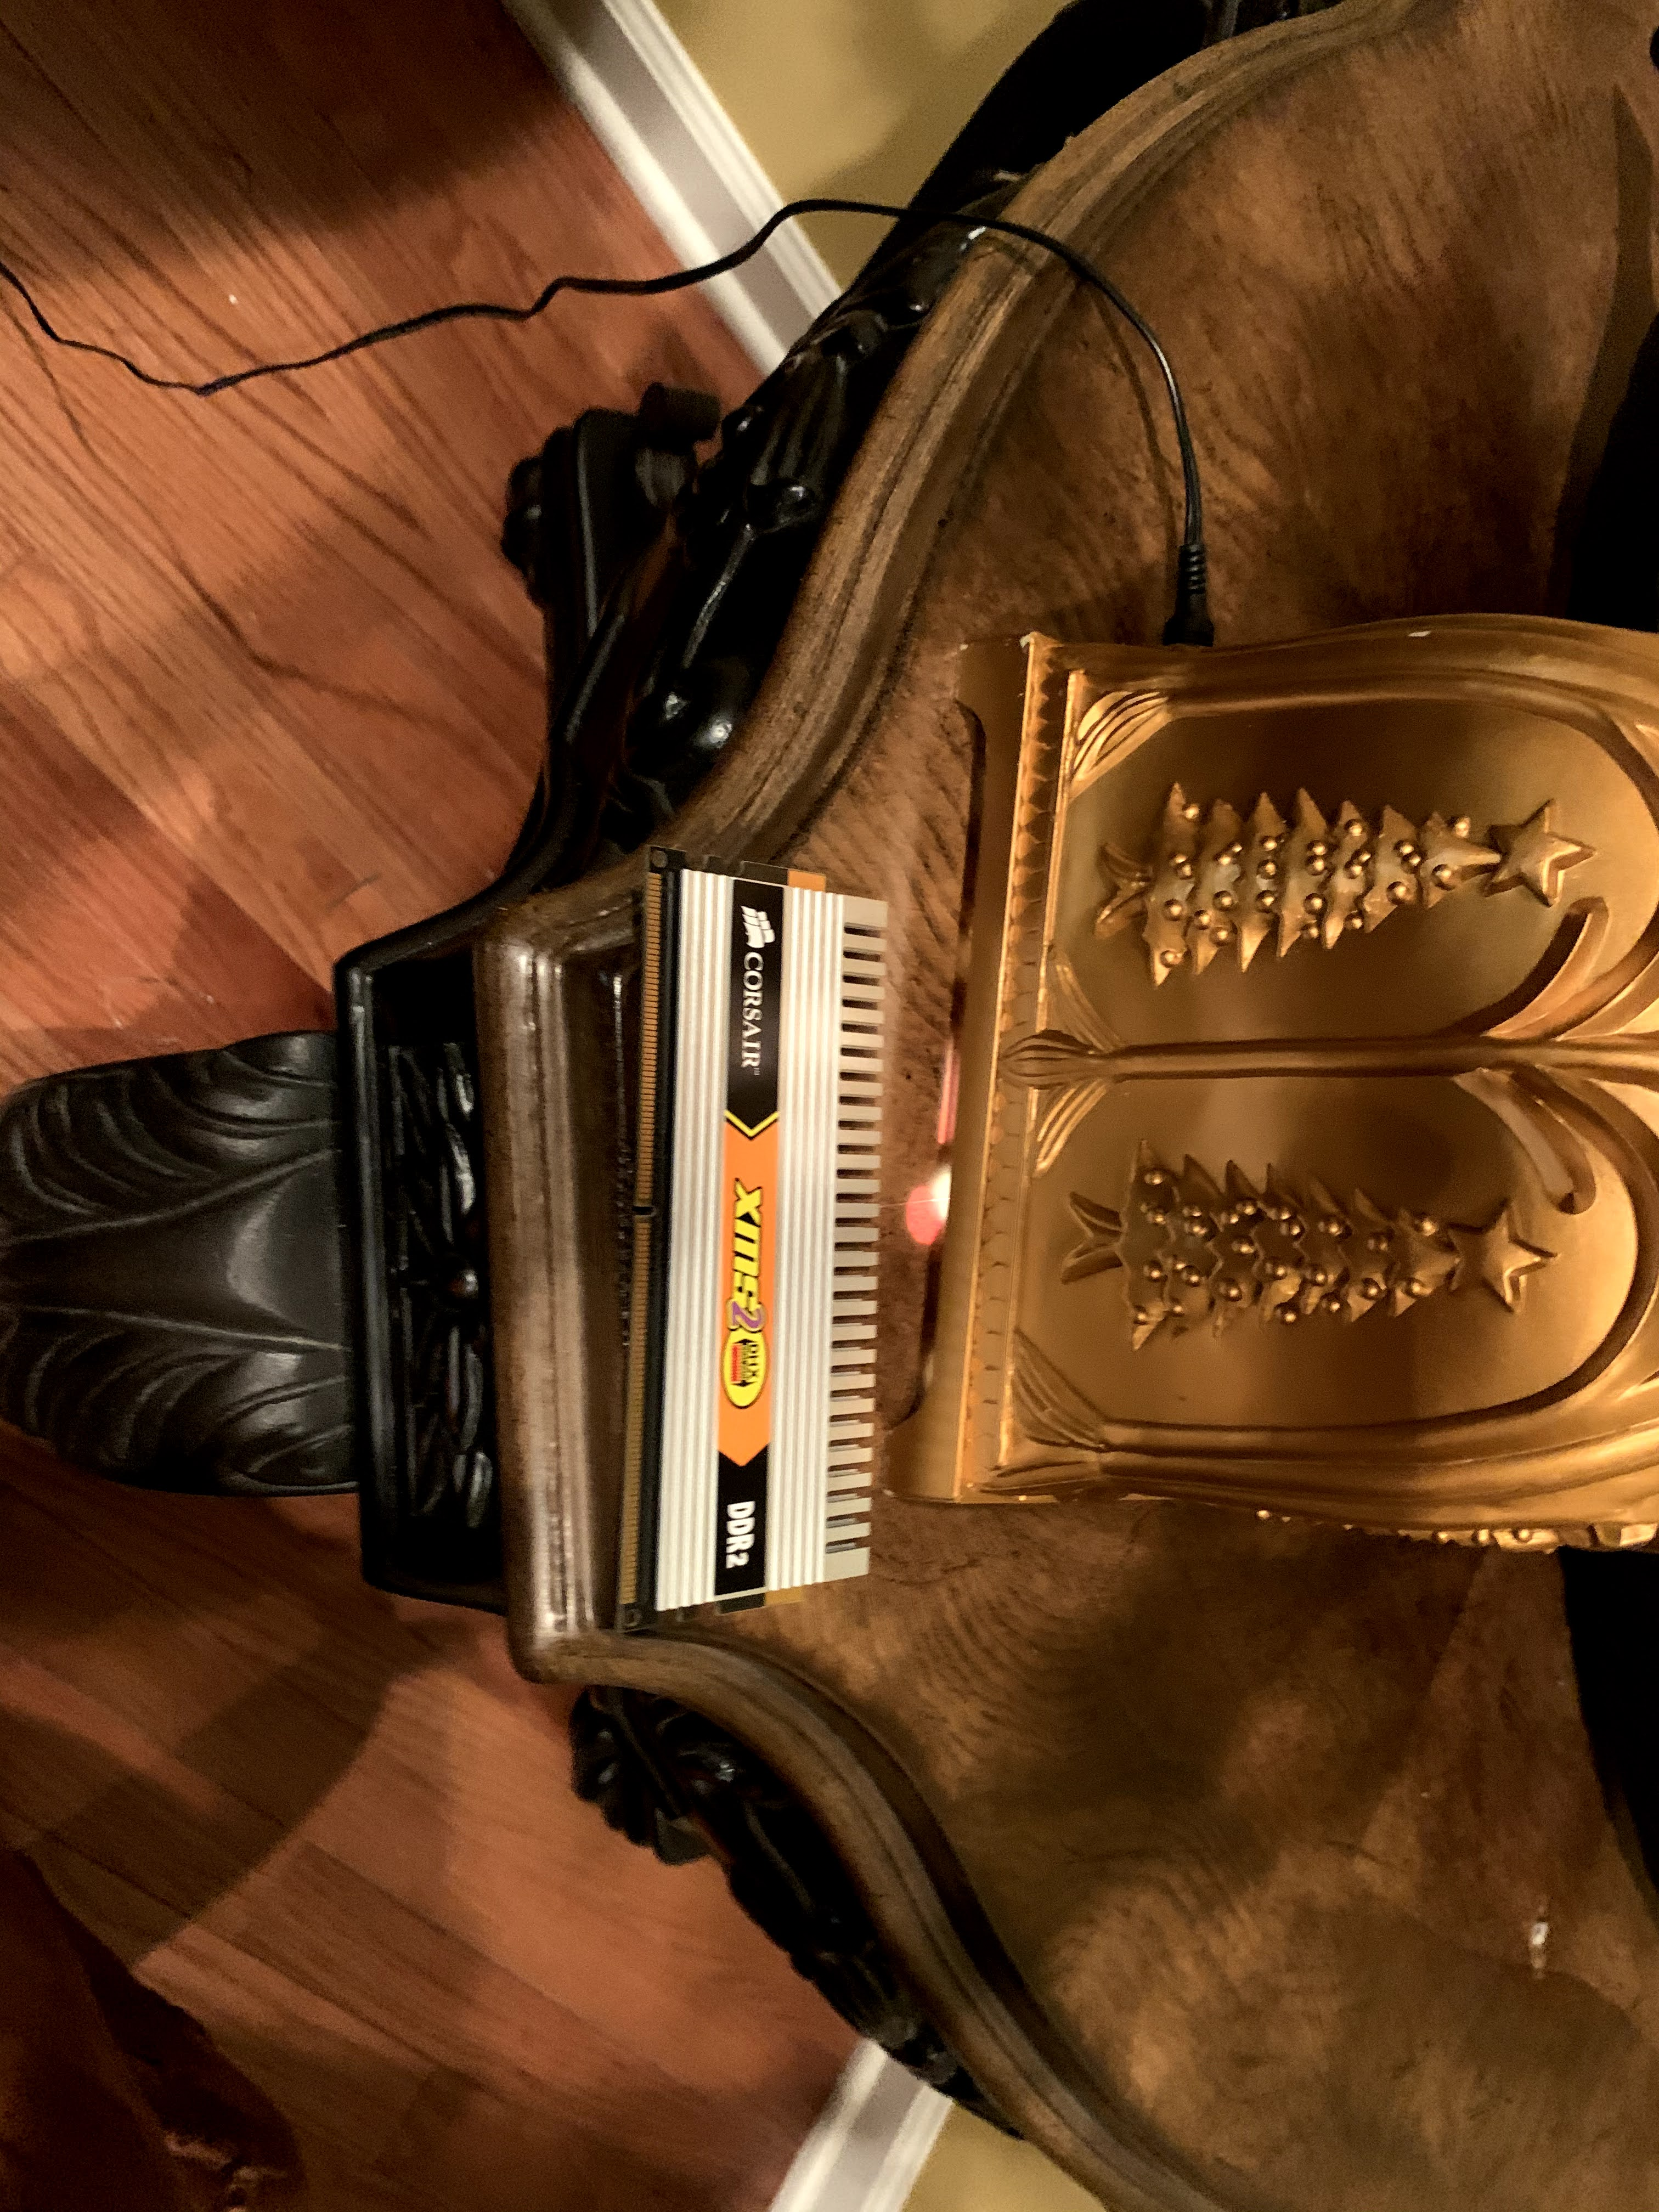Space-debris-medium: (619, 827, 910, 1648)
